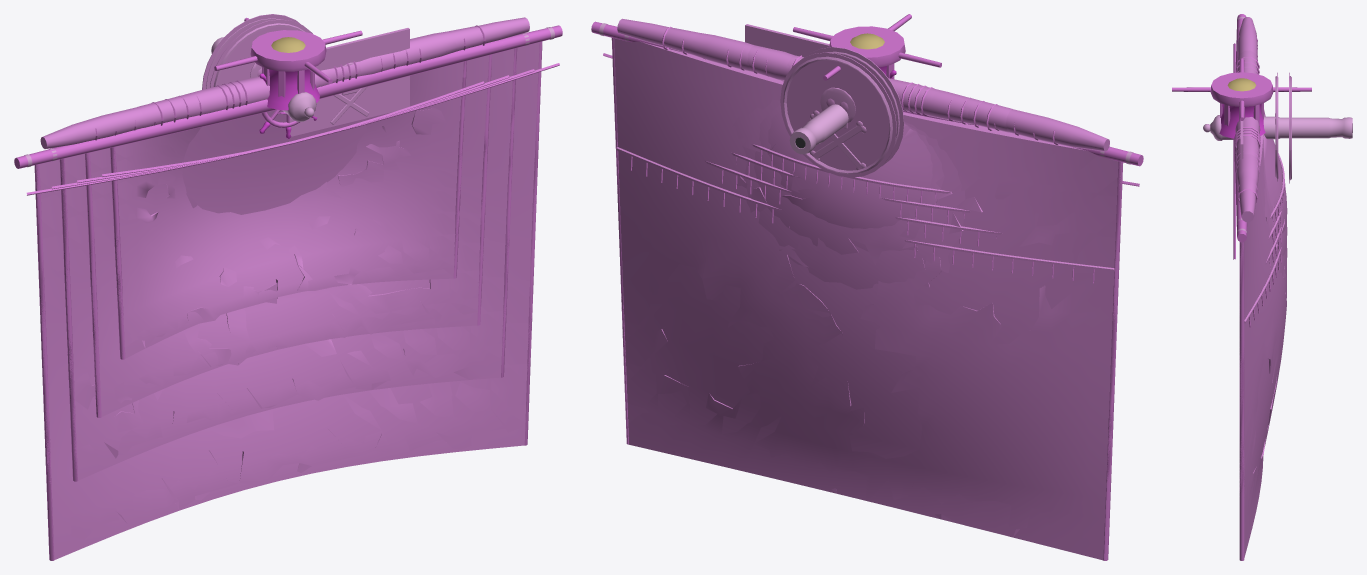
The model's file is ship_parts.glb.
3 views of the same model, side by side, from view 1: azimuth 30°, elevation 25°; view 2: azimuth 150°, elevation 25°; view 3: azimuth 270°, elevation 25° (orthographic). The views are drawn at different scales.
Parts seen in each view (by area): view 1: sail_1_0, sail_0_1, sail_0_0, sail_1_1, sail_torn_1_0, sail_torn_0_0, sail_torn_0_1, sail_torn_1_1, yard_1_0, flag, capstan, furl_1_0 (+7 smaller); view 2: sail_torn_1_0, sail_1_0, emblem, sail_torn_0_1, sail_torn_0_0, sail_torn_1_1, furl_1_0, furl_0_0, capstan, sail_0_0, furl_1_1, cannon (+4 smaller); view 3: sail_torn_1_0, sail_1_0, capstan, cannon, furl_1_0, sail_torn_0_1, furl_0_0, emblem, yard_1_0, sail_torn_1_1, furl_1_1, sail_torn_0_0 (+3 smaller).
Boxes of the visible parts, x1,y1,x2,y2 form: sail_1_0: (34, 41, 542, 560); sail_0_1: (110, 61, 466, 359); sail_0_0: (59, 48, 517, 481); sail_1_1: (85, 55, 491, 417); sail_torn_1_0: (34, 45, 542, 560); sail_torn_0_0: (60, 48, 517, 481); sail_torn_0_1: (110, 63, 466, 358); sail_torn_1_1: (85, 54, 491, 417); yard_1_0: (14, 25, 562, 195); flag: (289, 28, 409, 136); capstan: (214, 17, 362, 110); furl_1_0: (40, 17, 529, 149); sail_torn_1_0: (611, 38, 1122, 558); sail_1_0: (612, 38, 1123, 560); emblem: (780, 47, 904, 177); sail_torn_0_1: (752, 74, 1005, 228); sail_torn_0_0: (675, 51, 1049, 289); sail_torn_1_1: (703, 58, 1028, 264); furl_1_0: (617, 18, 1109, 151); furl_0_0: (664, 28, 1037, 140); capstan: (793, 14, 941, 80); sail_0_0: (673, 50, 1052, 264); furl_1_1: (703, 50, 1018, 135); cannon: (789, 104, 848, 154); sail_torn_1_0: (1239, 136, 1286, 559); sail_1_0: (1239, 135, 1286, 560); capstan: (1172, 58, 1311, 138); cannon: (1203, 115, 1352, 140); furl_1_0: (1234, 17, 1260, 222); sail_torn_0_1: (1260, 114, 1287, 234); furl_0_0: (1235, 48, 1260, 193); emblem: (1275, 72, 1291, 183); yard_1_0: (1233, 14, 1247, 259); sail_torn_1_1: (1263, 112, 1287, 255); furl_1_1: (1235, 50, 1260, 163); sail_torn_0_0: (1263, 111, 1287, 279).
Size of the model in its own units: 10.8 by 8.85 by 3.75.
